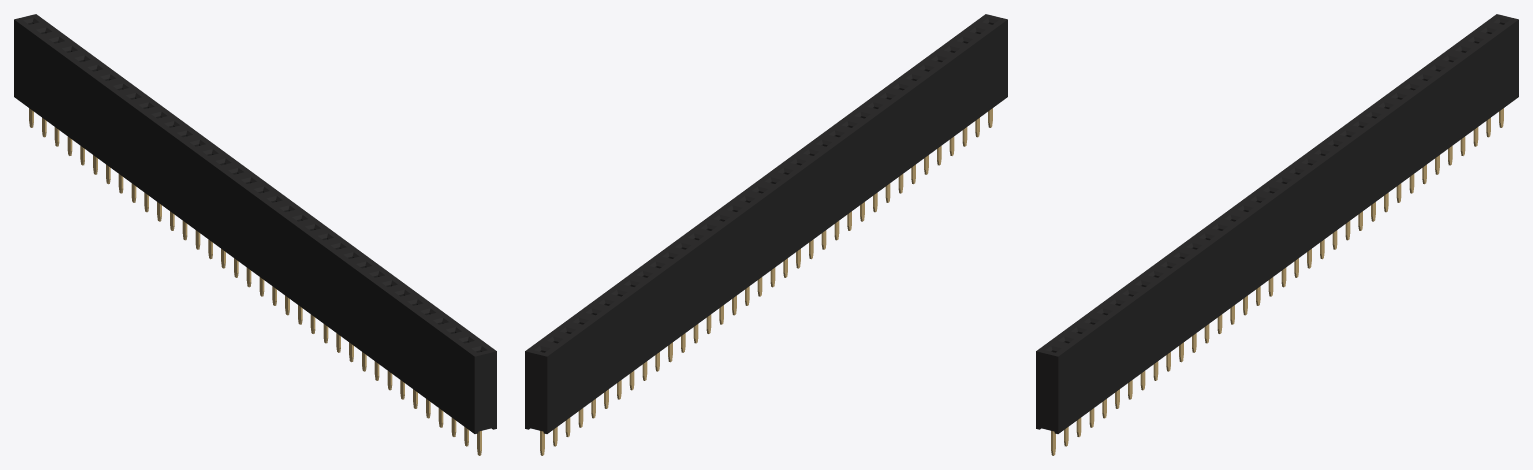
The model's file is kc-pinsocket_1x36_p2.54mm_vertical.glb.
3 renders of one model, left to right at view 1: azimuth 30°, elevation 25°; view 2: azimuth 150°, elevation 25°; view 3: azimuth 330°, elevation 25°, orthographic.
Visible parts, largest first — view 1: 0_0_0_0, 0.75_0.5_0.25_0.9; view 2: 0_0_0_0, 0.75_0.5_0.25_0.9; view 3: 0_0_0_0, 0.75_0.5_0.25_0.9.
Part boxes in pixels (x1,y1,x2,y2): 0_0_0_0: (14, 14, 496, 433); 0.75_0.5_0.25_0.9: (29, 108, 481, 455); 0_0_0_0: (525, 14, 1007, 433); 0.75_0.5_0.25_0.9: (540, 108, 992, 455); 0_0_0_0: (1036, 14, 1518, 433); 0.75_0.5_0.25_0.9: (1051, 108, 1503, 455).
Size of the model in its own units: 0.2545 by 1.16 by 9.14.
